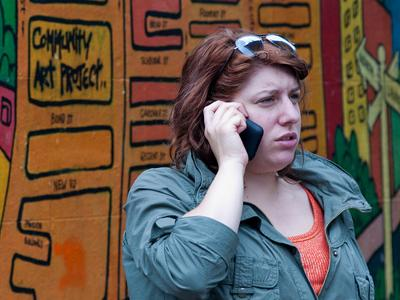person: (121, 29, 377, 300)
